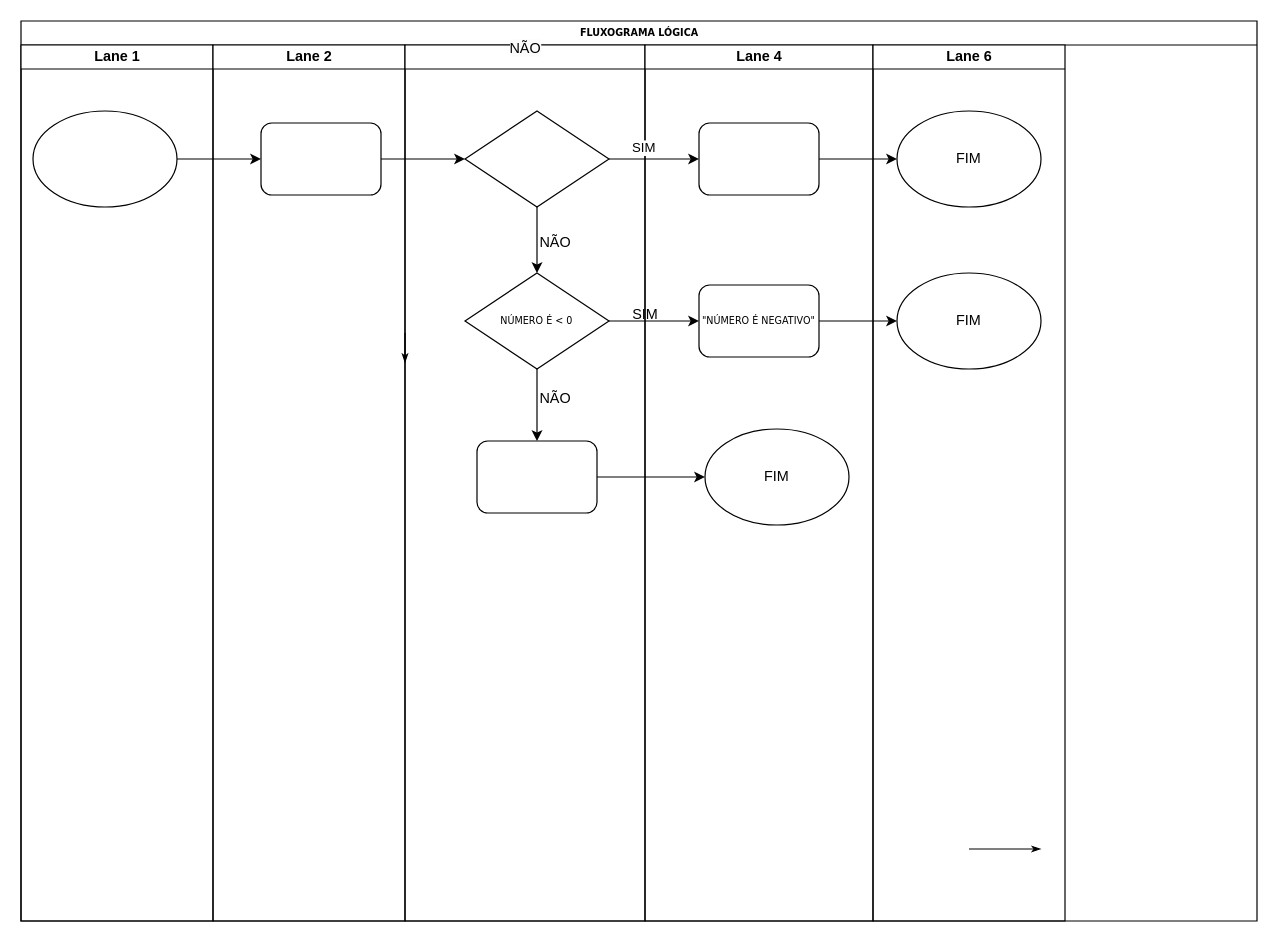
Some shapes in this 1278 by 942 pixel diagram are drawn without their labels. Each missing label, with the centre of its shape:
"NÚMERO É POSITIVO": the point at 758,158
DIGITE UM NÚMERO: the point at 320,158
INÍCIO: the point at 104,158
NÚMERO É 0: the point at 536,476
NÚMERO É > 0: the point at 536,158
